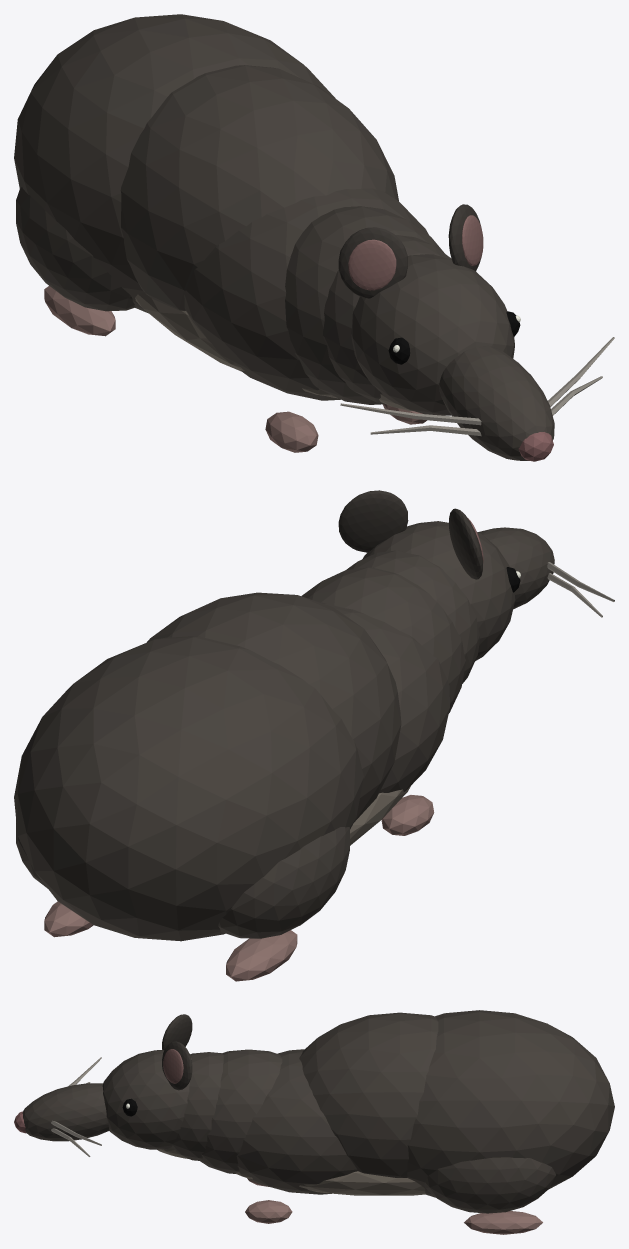
Rendered from MotherBody.obj.
3 renders of one model, top to bottom at view 1: azimuth 30°, elevation 25°; view 2: azimuth 150°, elevation 25°; view 3: azimuth 270°, elevation 25°, orthographic. The views are drawn at different scales.
Parts seen in each view (by area): view 1: Fur, Paws, Ear, EarInner, Whiskers, Belly, Nose, Eyes; view 2: Fur, Paws, Ear, Belly, Whiskers; view 3: Fur, Paws, Belly, Ear, EarInner, Whiskers.
Boxes of the visible parts, x1,y1,x2,y2 form: Fur: (14, 14, 554, 460); Paws: (44, 286, 426, 452); Ear: (338, 204, 481, 298); EarInner: (348, 215, 483, 290); Whiskers: (340, 337, 614, 436); Belly: (135, 292, 412, 410); Nose: (518, 432, 553, 461); Eyes: (388, 311, 520, 364); Fur: (14, 521, 554, 941); Paws: (44, 795, 434, 981); Ear: (338, 490, 482, 579); Belly: (350, 786, 410, 845); Whiskers: (547, 562, 614, 617); Fur: (22, 1010, 614, 1213); Paws: (245, 1178, 542, 1234); Belly: (157, 1147, 426, 1195); Ear: (162, 1014, 192, 1090); EarInner: (163, 1049, 183, 1083); Whiskers: (51, 1057, 101, 1156).
Size of the model in its own units: 0.5616 by 0.5056 by 1.51.
